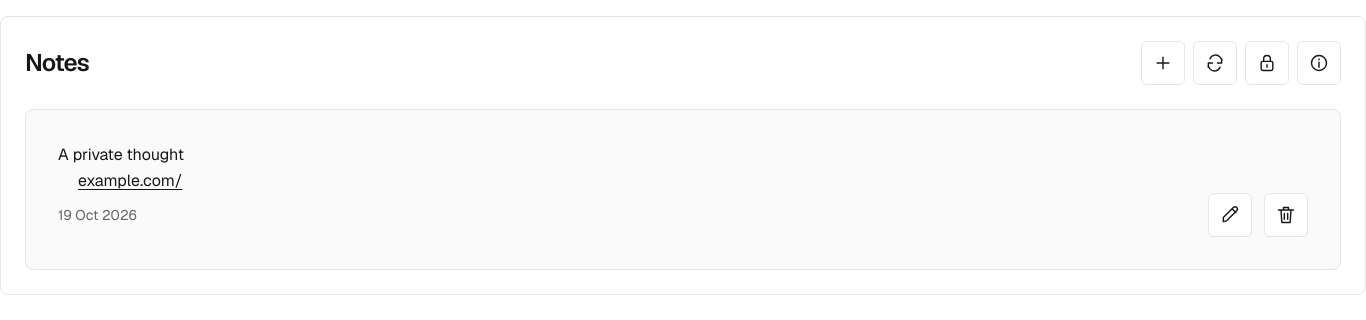
Test case: notes interface › locks a code session explicitly and removes private content
Click the button named "Lock notes" at (1267, 63), box [1245,41,1289,85]
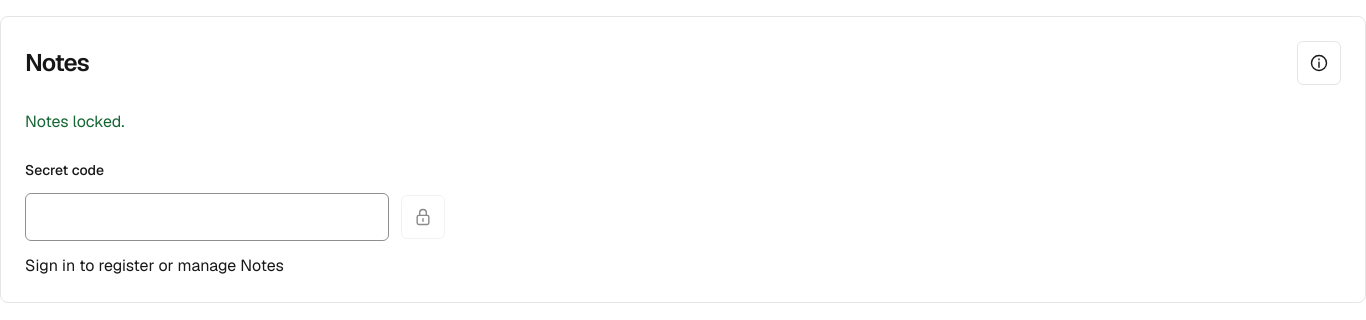
expect the button named "Unlock notes" is shown: met, box [401,195,445,239]
expect the text "A private thought" is gone: met
